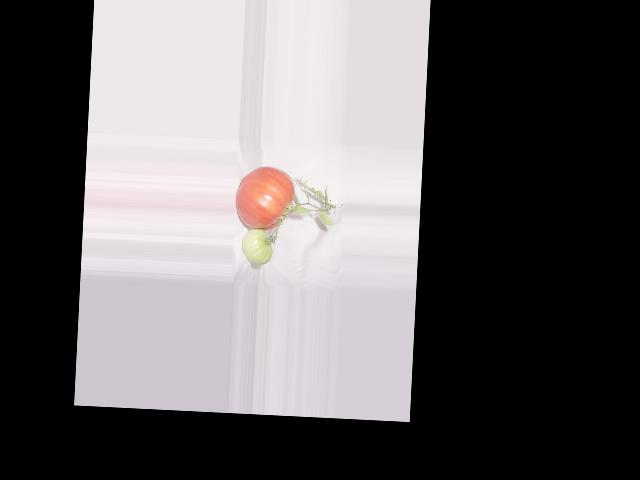tomato: (234, 165, 296, 231)
